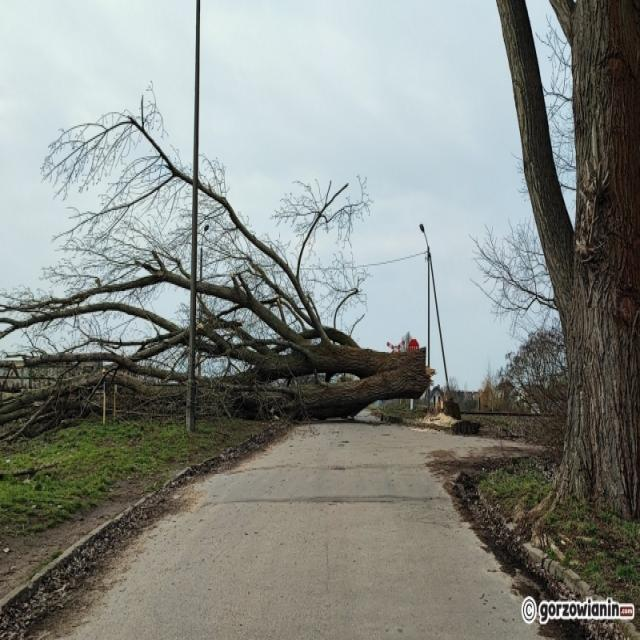fallen_tree: (0, 341, 425, 438)
